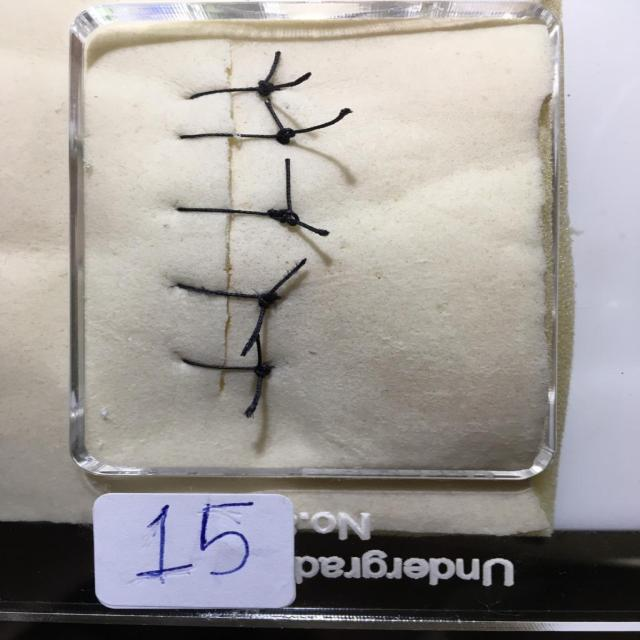knot: (268, 210, 299, 226), (258, 294, 278, 310), (275, 129, 295, 145), (258, 80, 275, 96), (255, 365, 272, 378)
leftover: (277, 106, 351, 138), (238, 294, 268, 358), (264, 256, 308, 299), (279, 213, 330, 237), (243, 365, 264, 419), (260, 70, 313, 91), (262, 98, 288, 139), (260, 49, 281, 91), (284, 156, 292, 218), (254, 331, 263, 370)
stitch: (174, 282, 283, 299), (172, 207, 300, 219), (186, 87, 282, 101), (180, 358, 277, 370), (177, 132, 296, 140)
wound: (216, 51, 235, 396)
